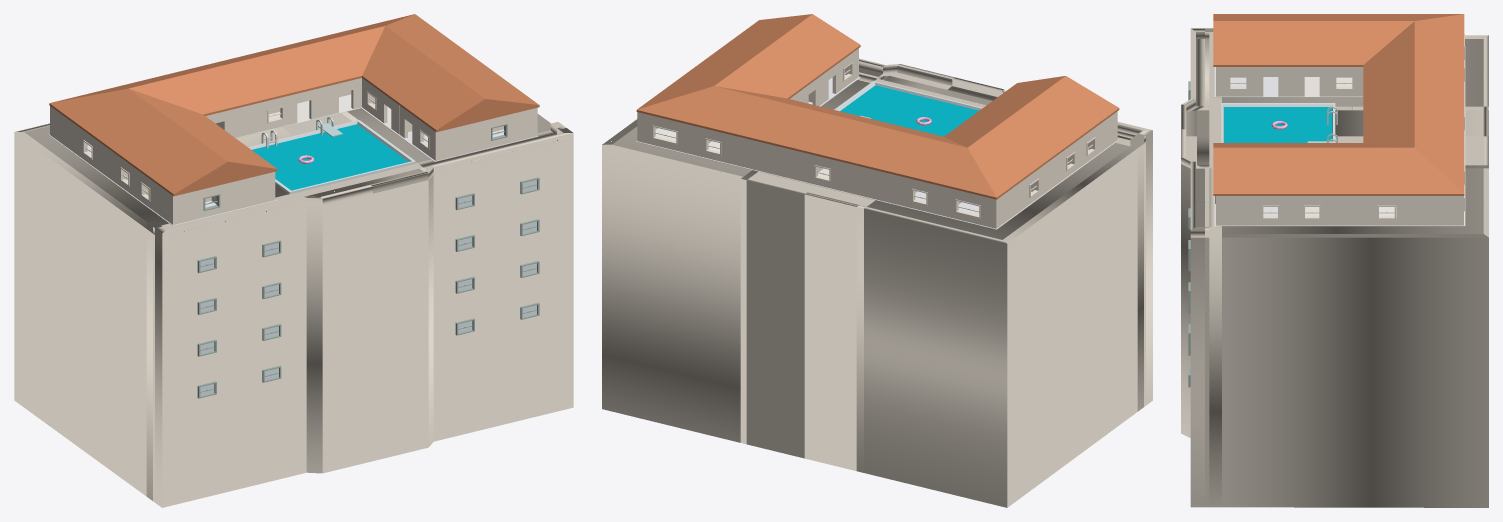
Rendered from Buildingv12.fbx.
3 views of the same model, side by side, from view 1: azimuth 30°, elevation 25°; view 2: azimuth 150°, elevation 25°; view 3: azimuth 270°, elevation 25° (orthographic). The views are drawn at different scales.
Parts seen in each view (by area): view 1: Building1, Pool, Roof3, Roof1, Roof4, Roof7, Roof5, Unit1, Unit7, Roof2, Roof6, Unit4 (+4 smaller); view 2: Building1, Roof3, Roof5, Roof4, Unit3, Pool, Roof1, Roof7, Unit5, Roof2, Roof6, Unit4 (+3 smaller); view 3: Building1, Roof5, Roof3, Roof4, Pool, Roof7, Roof1, Roof2, Roof6, Unit5, Unit6, Unit7 (+5 smaller).
Boxes of the visible parts, x1,y1,x2,y2 form: Building1: (14, 108, 573, 507); Pool: (248, 120, 415, 194); Roof3: (49, 69, 231, 141); Roof1: (135, 133, 277, 196); Roof4: (182, 44, 333, 109); Roof7: (397, 70, 539, 132); Roof5: (285, 14, 464, 84); Unit1: (136, 169, 275, 224); Unit7: (399, 105, 537, 160); Roof2: (99, 107, 238, 167); Roof6: (362, 44, 500, 103); Unit4: (232, 85, 330, 137); Building1: (602, 58, 1152, 507); Roof3: (867, 129, 1045, 199); Roof5: (636, 67, 814, 143); Roof4: (766, 104, 913, 167); Unit3: (865, 165, 1044, 228); Pool: (834, 81, 982, 136); Roof1: (979, 76, 1119, 137); Roof7: (721, 14, 860, 74); Unit5: (637, 112, 768, 172); Roof2: (944, 103, 1081, 163); Roof6: (686, 42, 822, 98); Unit4: (768, 144, 865, 196); Building1: (1181, 28, 1488, 507); Roof5: (1363, 109, 1464, 195); Roof3: (1363, 14, 1464, 78); Roof4: (1363, 59, 1464, 129); Pool: (1221, 103, 1335, 142); Roof7: (1213, 143, 1291, 195); Roof1: (1213, 14, 1291, 66); Roof2: (1291, 14, 1363, 66); Roof6: (1291, 143, 1363, 195); Unit5: (1364, 163, 1464, 225); Unit6: (1289, 196, 1364, 225); Unit7: (1216, 196, 1289, 225).
Size of the model in its own units: 56.85 by 42.24 by 36.55.
